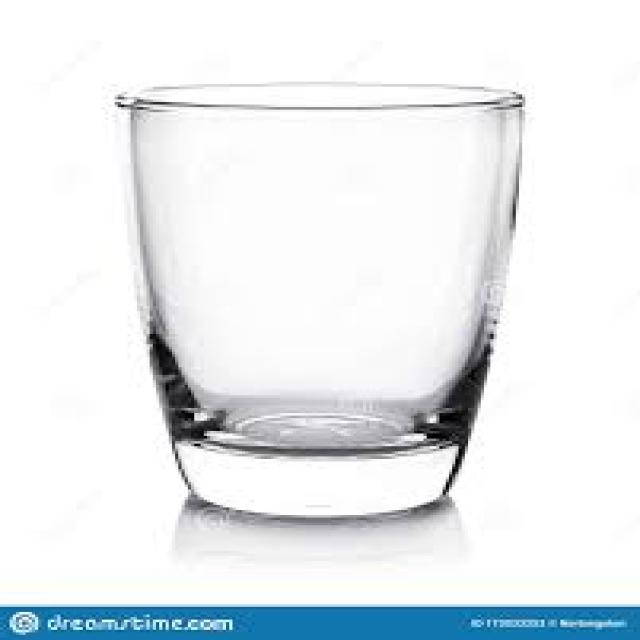glass: (115, 82, 522, 515)
